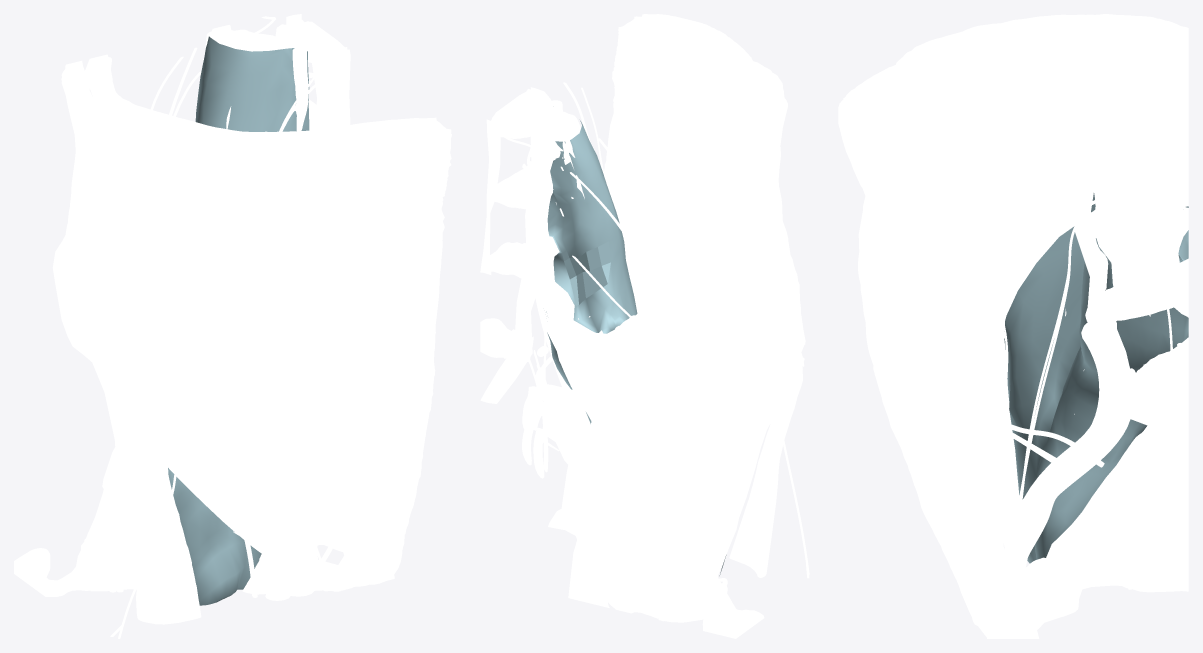
Rendered from inguinal_region.glb.
The picture shows the model from 3 angles, left to right: view 1: azimuth 30°, elevation 25°; view 2: azimuth 150°, elevation 25°; view 3: azimuth 270°, elevation 25°; orthographic projection. The views are drawn at different scales.
Visible parts, largest first — view 1: External abdominal oblique muscle.r, Iliopsoas fascia.r, Internal abdominal oblique muscle.r, Sartorius muscle.r, Hip bone.r, Transversus abdominis muscle.r, Superficial epigastric vein.r.001, Inguinal ligament.r, Articular capsule of hip joint.r, Anterior longitudinal ligament, Rectus abdominis muscle.r, Superficial epigastric artery.r.001 (+9 smaller); view 2: Hip bone.r, Transversus abdominis muscle.r, External abdominal oblique muscle.r, Iliopsoas fascia.r, Psoas major.r, Iliacus muscle.r, Sartorius muscle.r, Articular capsule of hip joint.r, Femur.r, Internal abdominal oblique muscle.r, Rectus abdominis muscle.r, Anterior sacro-iliac ligament.r (+9 smaller); view 3: Transversus abdominis muscle.r, Iliopsoas fascia.r, Hip bone.r, Rectus abdominis muscle.r, External abdominal oblique muscle.r, Psoas major.r, Internal abdominal oblique muscle.r, External iliac vein.r.001, Anterior longitudinal ligament, Intervertebral disc L4-L5, Intervertebral disc L3-L4, Intervertebral disc L5-S1 (+14 smaller).
Part boxes in pixels (left/top/right/bottom): External abdominal oblique muscle.r: left=61, top=64, right=451, bottom=549; Iliopsoas fascia.r: left=168, top=36, right=309, bottom=605; Internal abdominal oblique muscle.r: left=68, top=60, right=451, bottom=579; Sartorius muscle.r: left=127, top=426, right=201, bottom=624; Hip bone.r: left=52, top=236, right=362, bottom=580; Transversus abdominis muscle.r: left=84, top=54, right=436, bottom=584; Superficial epigastric vein.r.001: left=264, top=166, right=430, bottom=586; Inguinal ligament.r: left=137, top=411, right=352, bottom=591; Articular capsule of hip joint.r: left=72, top=487, right=142, bottom=590; Anterior longitudinal ligament: left=311, top=49, right=350, bottom=129; Rectus abdominis muscle.r: left=283, top=121, right=445, bottom=554; Superficial epigastric artery.r.001: left=282, top=161, right=320, bottom=593; Hip bone.r: left=549, top=288, right=802, bottom=607; Transversus abdominis muscle.r: left=604, top=26, right=756, bottom=313; External abdominal oblique muscle.r: left=642, top=14, right=805, bottom=351; Iliopsoas fascia.r: left=546, top=120, right=726, bottom=575; Psoas major.r: left=526, top=102, right=611, bottom=419; Iliacus muscle.r: left=599, top=303, right=770, bottom=575; Sartorius muscle.r: left=729, top=383, right=798, bottom=577; Articular capsule of hip joint.r: left=652, top=517, right=735, bottom=622; Femur.r: left=606, top=561, right=764, bottom=638; Internal abdominal oblique muscle.r: left=622, top=16, right=804, bottom=366; Rectus abdominis muscle.r: left=561, top=19, right=738, bottom=512; Anterior sacro-iliac ligament.r: left=539, top=384, right=607, bottom=467; Transversus abdominis muscle.r: left=890, top=23, right=1188, bottom=632; Iliopsoas fascia.r: left=1004, top=193, right=1188, bottom=563; Hip bone.r: left=1006, top=185, right=1188, bottom=638; Rectus abdominis muscle.r: left=858, top=68, right=1013, bottom=630; External abdominal oblique muscle.r: left=838, top=14, right=1188, bottom=588; Psoas major.r: left=1046, top=95, right=1188, bottom=557; Internal abdominal oblique muscle.r: left=849, top=15, right=1188, bottom=637; External iliac vein.r.001: left=1014, top=322, right=1125, bottom=528; Anterior longitudinal ligament: left=1075, top=125, right=1188, bottom=444; Intervertebral disc L4-L5: left=1092, top=272, right=1186, bottom=328; Intervertebral disc L3-L4: left=1080, top=199, right=1173, bottom=244; Intervertebral disc L5-S1: left=1116, top=346, right=1188, bottom=417.
Size of the model in its own units: 0.13 by 0.22 by 0.14.
